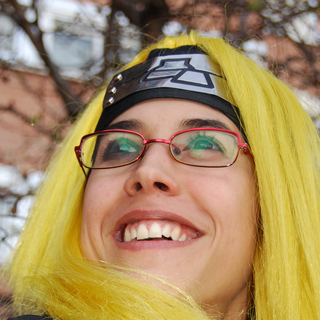eye: (180, 132, 229, 159), (98, 135, 143, 164)
